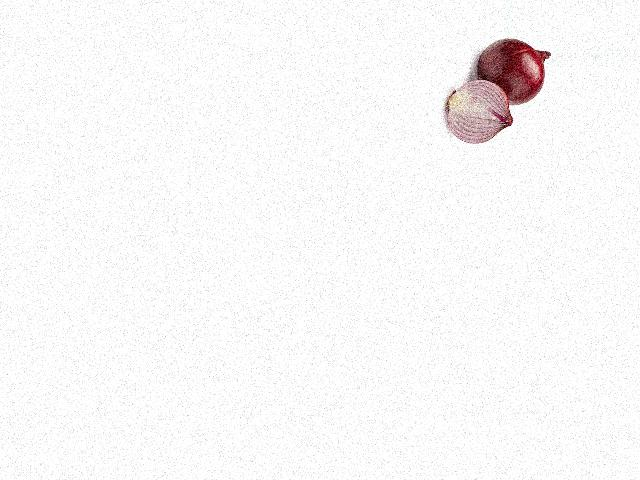onion: (447, 84, 514, 141)
